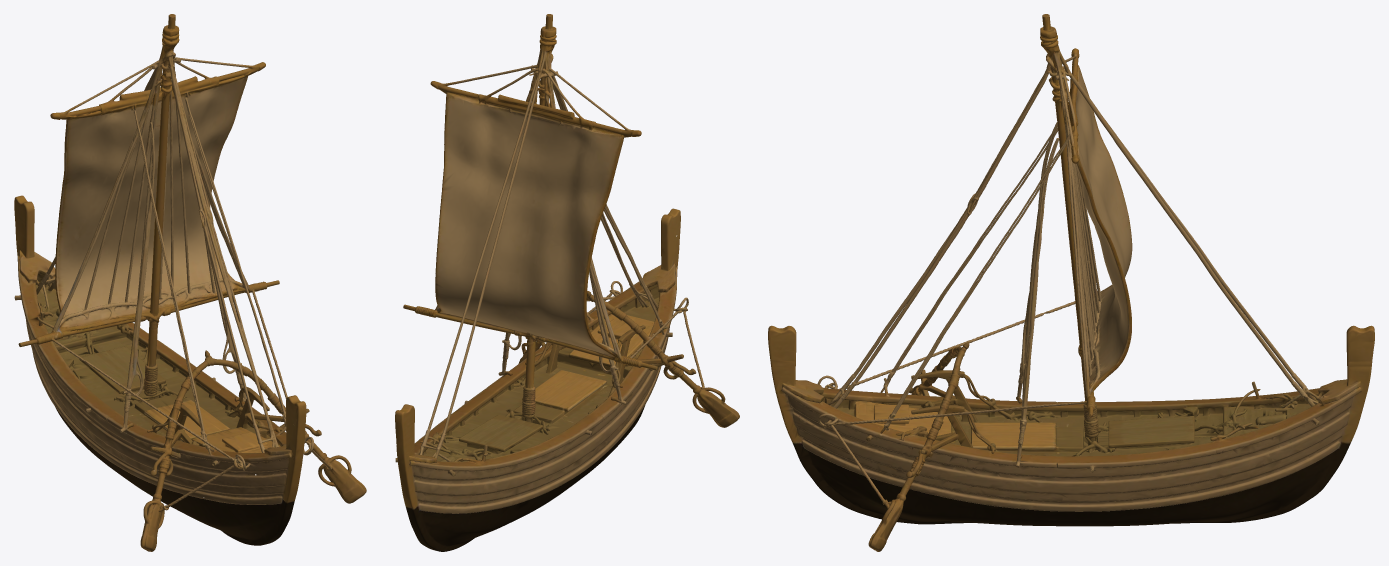
File: Uluburun_Ship.min.glb
3 renders of one model, left to right at view 1: azimuth 30°, elevation 25°; view 2: azimuth 150°, elevation 25°; view 3: azimuth 270°, elevation 25°, orthographic. The views are drawn at different scales.
Visible parts, largest first — view 1: tripo_node_b11500f9-586a-4b38-9e95-6d028eec135a; view 2: tripo_node_b11500f9-586a-4b38-9e95-6d028eec135a; view 3: tripo_node_b11500f9-586a-4b38-9e95-6d028eec135a.
Part boxes in pixels (x1,y1,x2,y2): tripo_node_b11500f9-586a-4b38-9e95-6d028eec135a: (14, 14, 366, 551); tripo_node_b11500f9-586a-4b38-9e95-6d028eec135a: (395, 14, 739, 551); tripo_node_b11500f9-586a-4b38-9e95-6d028eec135a: (768, 14, 1374, 551).
Size of the model in its own units: 0.5136 by 0.9029 by 0.9791.
Materials: 1 (1 with a texture image).
